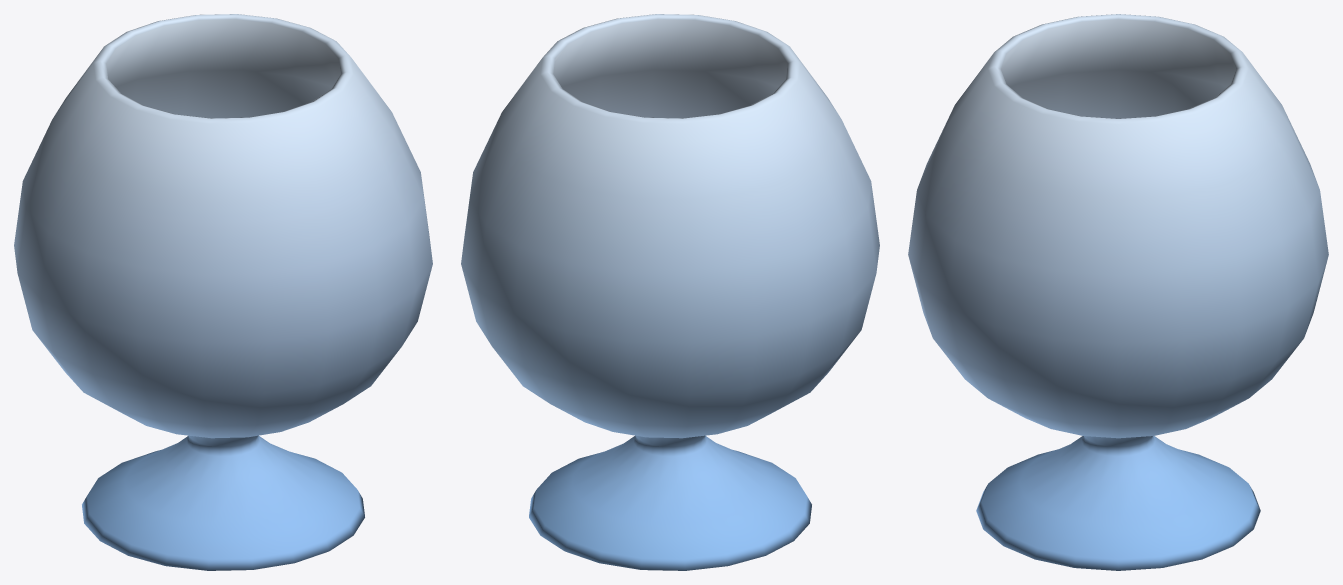
The model's file is glass_005.fbx.
3 renders of one model, left to right at view 1: azimuth 30°, elevation 25°; view 2: azimuth 150°, elevation 25°; view 3: azimuth 270°, elevation 25°, orthographic.
Visible parts, largest first — view 1: glass_005; view 2: glass_005; view 3: glass_005.
Boxes of the visible parts, x1,y1,x2,y2 form: glass_005: (14,14,432,570); glass_005: (461,14,879,570); glass_005: (908,14,1328,570).
Size of the model in its own units: 10.11 by 10.11 by 11.78.
